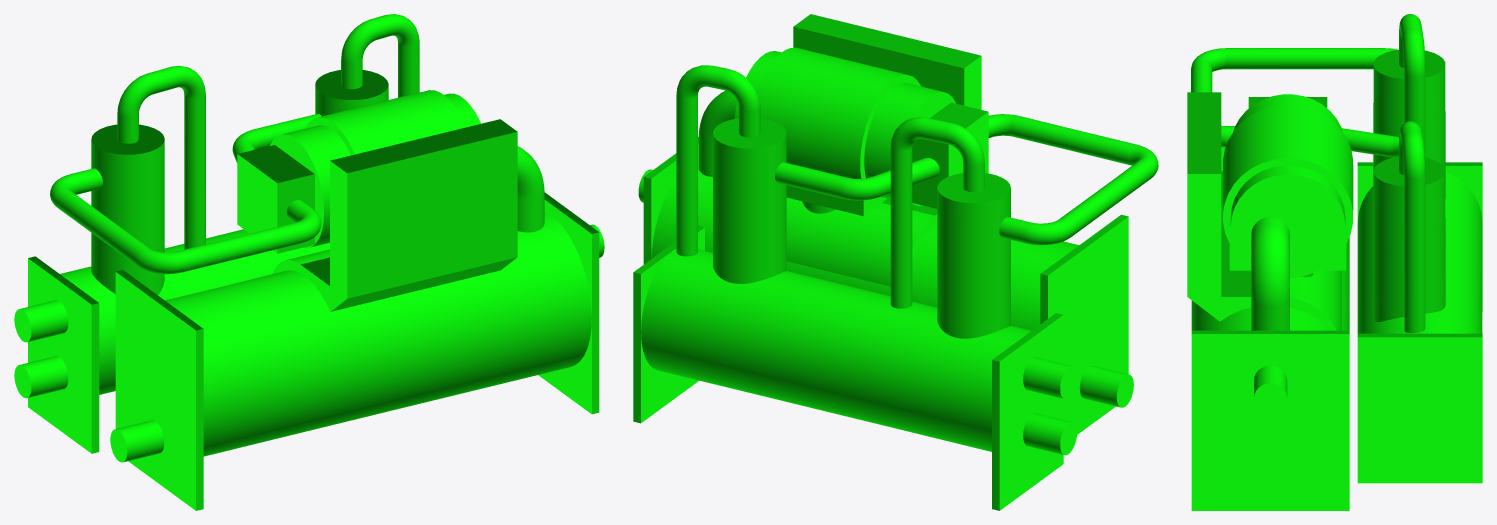
File: AirConditioningIceWaterHost.glb
3 renders of one model, left to right at view 1: azimuth 30°, elevation 25°; view 2: azimuth 150°, elevation 25°; view 3: azimuth 270°, elevation 25°, orthographic. The views are drawn at different scales.
Parts seen in each view (by area): view 1: 接合實體幾何圖形; view 2: 接合實體幾何圖形; view 3: 接合實體幾何圖形.
Boxes of the visible parts, bbox=[...] form: 接合實體幾何圖形: bbox=[14, 14, 604, 510]; 接合實體幾何圖形: bbox=[633, 14, 1158, 510]; 接合實體幾何圖形: bbox=[1187, 14, 1482, 510].
Size of the model in its own units: 11.05 by 7.2 by 5.8.
